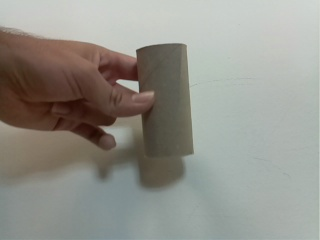rollo papel: (135, 42, 198, 159)
